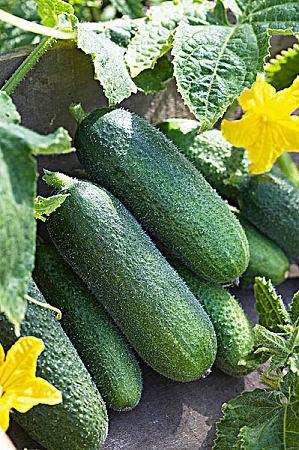cucumber: (47, 182, 208, 373), (86, 110, 247, 284)
cucumber_plant: (74, 6, 290, 107)
